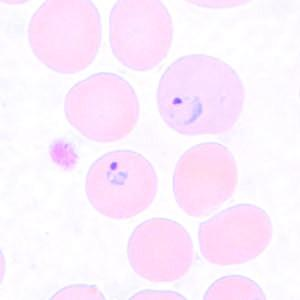Infected: (156, 53, 245, 134), (86, 149, 158, 218)
Uninfected: (28, 1, 102, 74), (64, 72, 140, 143), (172, 142, 239, 215), (197, 203, 272, 266), (108, 0, 174, 71), (126, 218, 195, 284)
